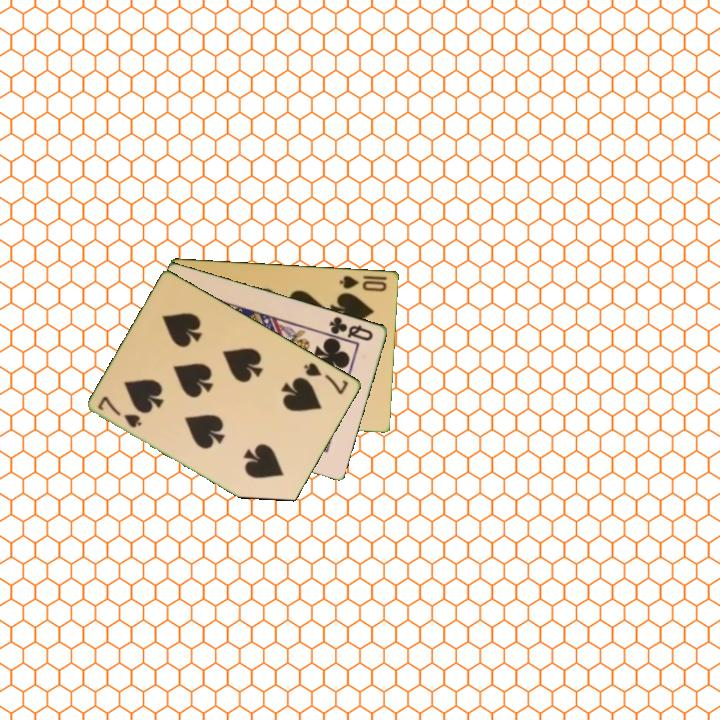10s: (336, 272, 390, 294)
7s: (94, 392, 145, 431), (301, 359, 352, 397)
Qc: (326, 313, 376, 344)
